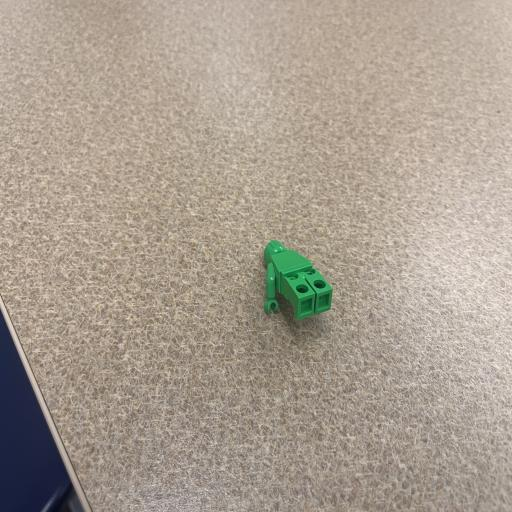Lego-Minifig: (264, 240, 332, 320)
